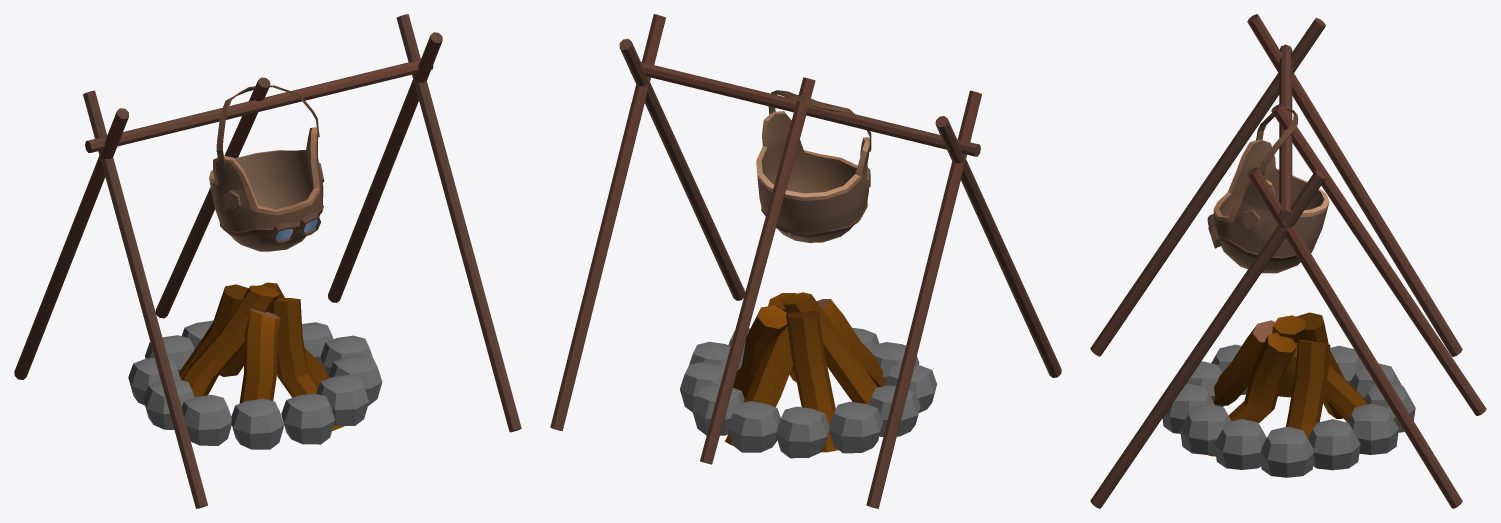
The model's file is Bonfire.fbx.
3 renders of one model, left to right at view 1: azimuth 30°, elevation 25°; view 2: azimuth 150°, elevation 25°; view 3: azimuth 270°, elevation 25°, orthographic.
Parts seen in each view (by area): view 1: Cylinder.007, Quadsphere.014, Cylinder.009, Cylinder.008, Cylinder.006, Cylinder.001, Cylinder, Cylinder.005, Cylinder.011, Quadsphere.003, Quadsphere.013, Quadsphere.007 (+10 smaller); view 2: Quadsphere.014, Cylinder.007, Cylinder.008, Cylinder.006, Cylinder.011, Cylinder.009, Cylinder.002, Cylinder.001, Quadsphere.006, Quadsphere.010, Quadsphere.002, Cylinder.003 (+9 smaller); view 3: Cylinder.007, Quadsphere.014, Cylinder.006, Cylinder.008, Cylinder.011, Cylinder.004, Cylinder.005, Quadsphere.005, Quadsphere.011, Quadsphere.012, Cylinder, Cylinder.009 (+12 smaller).
Boxes of the visible parts, x1,y1,x2,y2 form: Cylinder.007: (83, 14, 521, 508); Quadsphere.014: (209, 127, 324, 251); Cylinder.009: (85, 59, 433, 152); Cylinder.008: (14, 108, 128, 379); Cylinder.006: (328, 32, 442, 302); Cylinder.001: (181, 285, 280, 396); Cylinder: (239, 308, 280, 403); Cylinder.005: (269, 298, 344, 430); Cylinder.011: (155, 77, 270, 318); Quadsphere.003: (281, 393, 334, 444); Quadsphere.013: (231, 398, 284, 449); Quadsphere.007: (181, 394, 231, 445); Quadsphere.014: (756, 111, 870, 242); Cylinder.007: (619, 39, 1061, 377); Cylinder.008: (866, 90, 981, 508); Cylinder.006: (550, 14, 665, 431); Cylinder.011: (700, 77, 815, 464); Cylinder.009: (630, 62, 980, 156); Cylinder.002: (786, 310, 838, 452); Cylinder.001: (781, 292, 877, 404); Quadsphere.006: (829, 401, 882, 453); Quadsphere.010: (776, 406, 829, 458); Quadsphere.002: (728, 401, 780, 452); Cylinder.003: (725, 326, 793, 445); Cylinder.007: (1090, 18, 1325, 508); Quadsphere.014: (1213, 139, 1329, 273); Cylinder.006: (1247, 167, 1462, 508); Cylinder.008: (1247, 14, 1462, 356); Cylinder.011: (1271, 104, 1486, 415); Cylinder.004: (1286, 339, 1330, 438); Cylinder.005: (1208, 332, 1296, 456); Quadsphere.005: (1260, 426, 1313, 477); Quadsphere.011: (1308, 419, 1360, 470); Quadsphere.012: (1214, 419, 1266, 469); Cylinder: (1213, 320, 1274, 405); Cylinder.009: (1279, 44, 1292, 222).
Bounding box in the file's own units: 340 × 334 × 344.
Materials: 3 (2 with a texture image).
